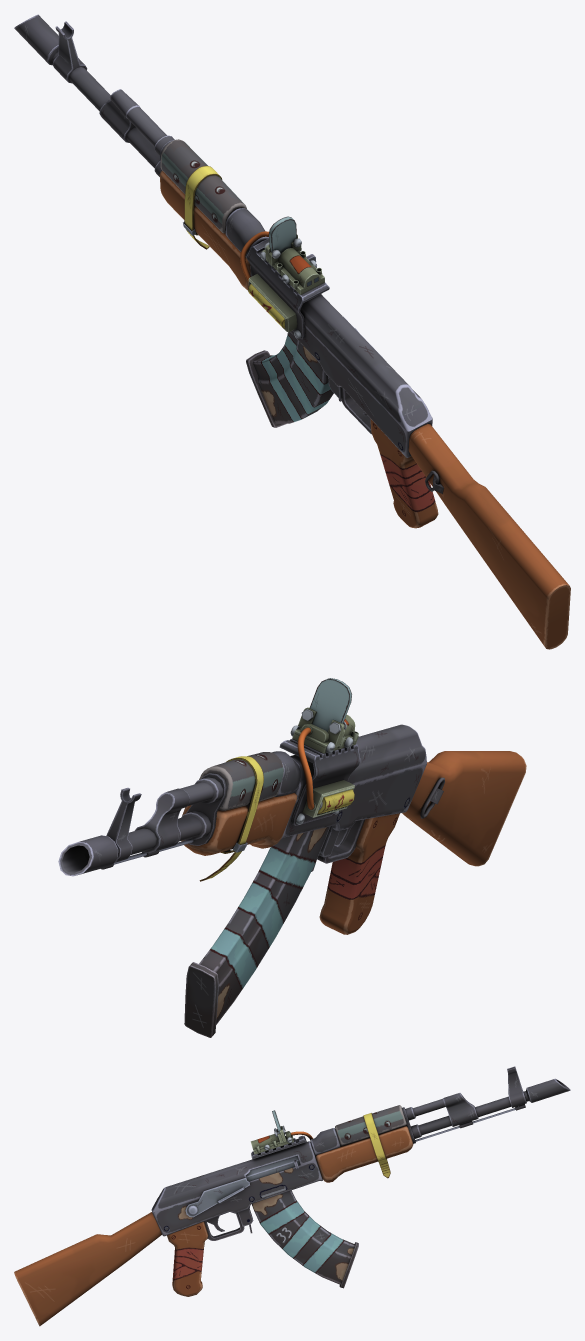
Rendered from rifle.glb.
3 renders of one model, top to bottom at view 1: azimuth 30°, elevation 25°; view 2: azimuth 150°, elevation 25°; view 3: azimuth 270°, elevation 25°, orthographic. The views are drawn at different scales.
Parts seen in each view (by area): view 1: Cube.005, Cube, Cube.009, Cube.013, Cube.006, Cube.012, Cube.007, Cube.004, Cube.018, Cube.017, Cube.011, Cube.024 (+2 smaller); view 2: Cube.013, Cube.005, Cube, Cube.006, Cube.007, Cube.004, Cube.009, Cube.012, Cube.018, Cube.019, Cube.024, Cube.014 (+6 smaller); view 3: Cube.005, Cube.013, Cube.007, Cube, Cube.009, Cube.004, Cube.006, Cube.012, Cube.016, Cube.024, Cube.010, Cube.011 (+1 smaller).
Boxes of the visible parts, box(x1,y1,x2,y2) form: Cube.005: box(408, 424, 570, 649); Cube: box(14, 14, 174, 176); Cube.009: box(250, 240, 432, 431); Cube.013: box(246, 332, 333, 427); Cube.006: box(370, 418, 438, 528); Cube.012: box(160, 139, 246, 233); Cube.007: box(250, 268, 432, 457); Cube.004: box(159, 170, 250, 289); Cube.018: box(246, 238, 329, 339); Cube.017: box(262, 248, 324, 294); Cube.011: box(225, 208, 268, 257); Cube.024: box(184, 166, 222, 249); Cube.013: box(184, 826, 330, 1037); Cube.005: box(402, 751, 526, 866); Cube: box(58, 777, 223, 876); Cube.006: box(319, 813, 399, 934); Cube.007: box(280, 764, 426, 839); Cube.004: box(181, 793, 297, 855); Cube.009: box(290, 724, 426, 800); Cube.012: box(199, 752, 283, 810); Cube.018: box(279, 738, 360, 825); Cube.019: box(309, 678, 351, 732); Cube.024: box(199, 756, 263, 881); Cube.014: box(185, 773, 226, 845); Cube.005: box(14, 1212, 161, 1326); Cube.013: box(251, 1190, 358, 1288); Cube.007: box(152, 1160, 322, 1236); Cube: box(405, 1066, 570, 1138); Cube.009: box(151, 1141, 316, 1212); Cube.004: box(315, 1124, 413, 1182); Cube.006: box(167, 1221, 208, 1296); Cube.012: box(335, 1105, 406, 1145); Cube.016: box(185, 1177, 249, 1217); Cube.024: box(363, 1113, 390, 1178); Cube.010: box(246, 1155, 300, 1181); Cube.011: box(310, 1128, 340, 1155).
Size of the model in its own units: 1.49 by 4.13 by 9.17.
Materials: 1 (1 with a texture image).
